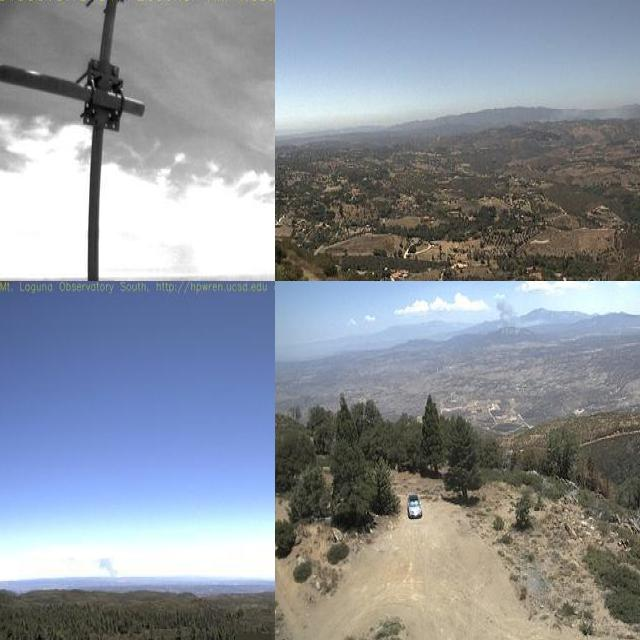smoke: (533, 89, 633, 126), (489, 291, 525, 342), (92, 553, 120, 586)
